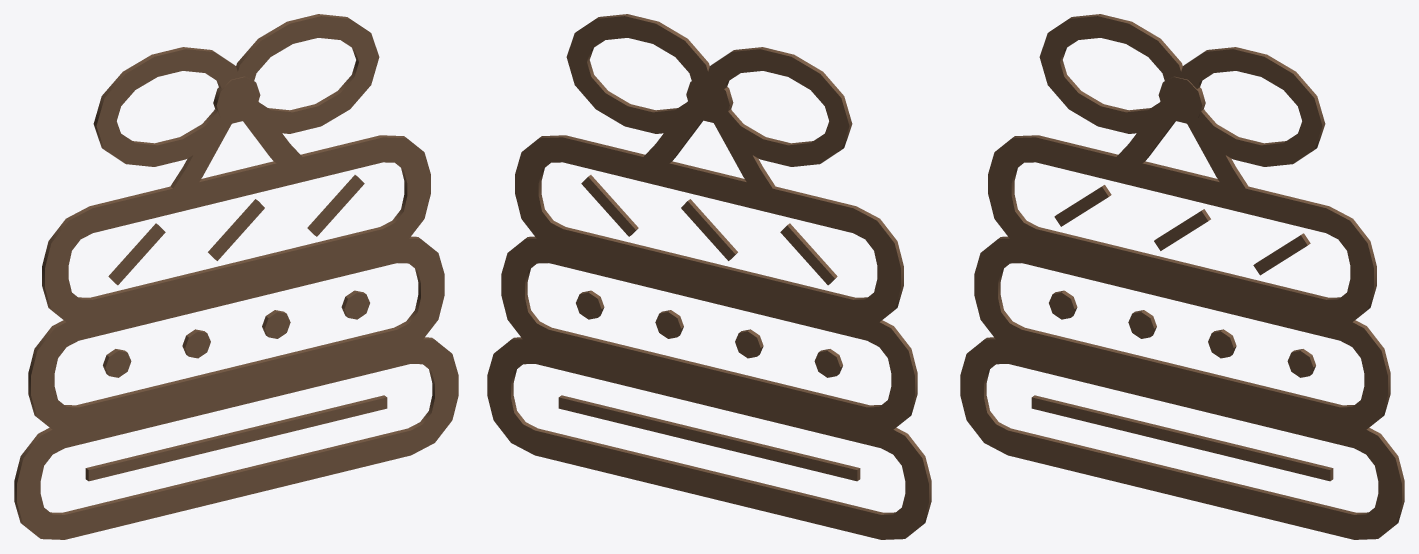
The model's file is sign_icon_fabric.glb.
3 views of the same model, side by side, from view 1: azimuth 30°, elevation 25°; view 2: azimuth 150°, elevation 25°; view 3: azimuth 330°, elevation 25° (orthographic).
Parts seen in each view (by area): view 1: sign_icon_fabric; view 2: sign_icon_fabric; view 3: sign_icon_fabric.
Boxes of the visible parts, bbox=[...] form: sign_icon_fabric: bbox=[14, 14, 458, 539]; sign_icon_fabric: bbox=[487, 14, 931, 539]; sign_icon_fabric: bbox=[960, 14, 1404, 539].
Size of the model in its own units: 0.2219 by 0.2215 by 0.003.
